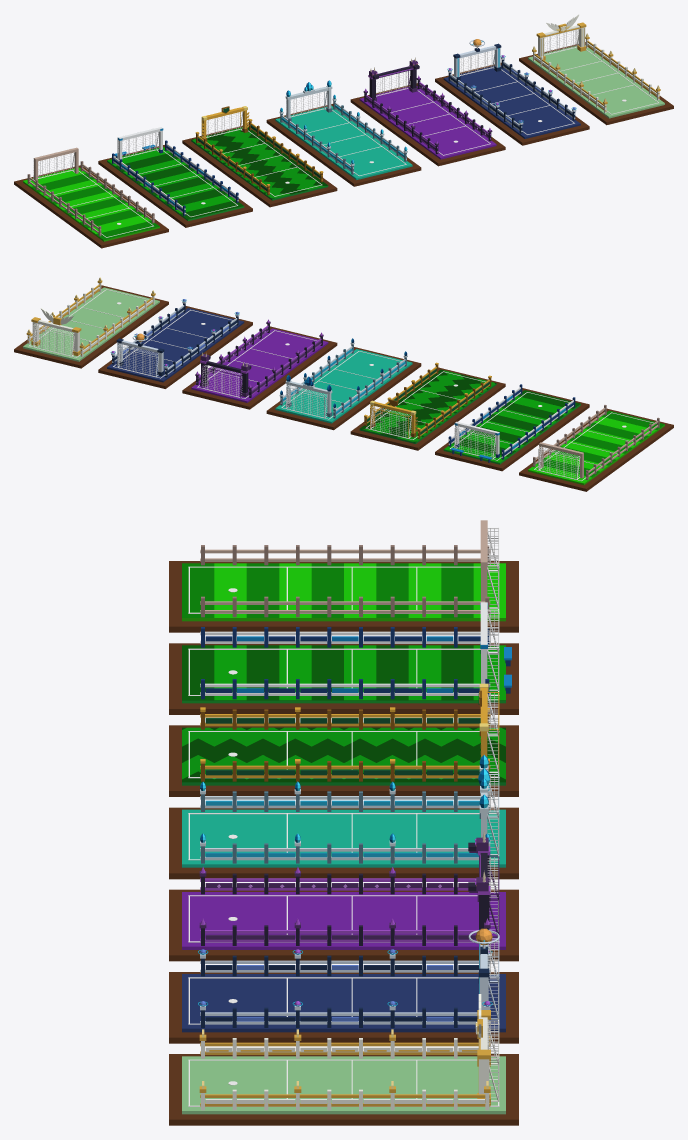
Rendered from training-fields-no-textures.fbx.
3 renders of one model, top to bottom at view 1: azimuth 30°, elevation 25°; view 2: azimuth 150°, elevation 25°; view 3: azimuth 270°, elevation 25°, orthographic. The views are drawn at different scales.
Parts seen in each view (by area): view 1: BF_Grass_Stripes.001, CF_Grass_Stripes.001, RF_Diamond_Turf.001, DF_Diamond_Turf.001, SF_Diamond_Turf.001, MF_Diamond_Turf.001, GF_Diamond_Turf.001, BF_Earth_Base.001, DF_Earth_Base.001, RF_Earth_Base.001, MF_Earth_Base.001, SF_Earth_Base.001 (+32 smaller); view 2: BF_Grass_Stripes.001, CF_Grass_Stripes.001, RF_Diamond_Turf.001, DF_Diamond_Turf.001, SF_Diamond_Turf.001, MF_Diamond_Turf.001, GF_Diamond_Turf.001, BF_Earth_Base.001, RF_Earth_Base.001, CF_Earth_Base.001, DF_Earth_Base.001, GF_Earth_Base.001 (+32 smaller); view 3: BF_Grass_Stripes.001, CF_Grass_Stripes.001, DF_Diamond_Turf.001, SF_Diamond_Turf.001, MF_Diamond_Turf.001, RF_Diamond_Turf.001, GF_Diamond_Turf.001, GF_Earth_Base.001, DF_Earth_Base.001, BF_Earth_Base.001, RF_Earth_Base.001, MF_Earth_Base.001 (+30 smaller).
Part boxes in pixels (left/top/right/bottom): BF_Grass_Stripes.001: left=23, top=167, right=159, bottom=239; CF_Grass_Stripes.001: left=107, top=147, right=243, bottom=219; RF_Diamond_Turf.001: left=191, top=127, right=327, bottom=198; DF_Diamond_Turf.001: left=275, top=105, right=411, bottom=178; SF_Diamond_Turf.001: left=444, top=65, right=580, bottom=137; MF_Diamond_Turf.001: left=360, top=86, right=496, bottom=157; GF_Diamond_Turf.001: left=528, top=45, right=664, bottom=116; BF_Earth_Base.001: left=14, top=165, right=168, bottom=248; DF_Earth_Base.001: left=266, top=104, right=421, bottom=186; RF_Earth_Base.001: left=182, top=124, right=337, bottom=207; MF_Earth_Base.001: left=350, top=83, right=505, bottom=166; SF_Earth_Base.001: left=435, top=62, right=589, bottom=145; BF_Grass_Stripes.001: left=528, top=410, right=664, bottom=483; CF_Grass_Stripes.001: left=444, top=390, right=580, bottom=462; RF_Diamond_Turf.001: left=360, top=369, right=496, bottom=442; DF_Diamond_Turf.001: left=276, top=349, right=411, bottom=421; SF_Diamond_Turf.001: left=107, top=308, right=243, bottom=380; MF_Diamond_Turf.001: left=191, top=328, right=327, bottom=401; GF_Diamond_Turf.001: left=23, top=287, right=159, bottom=360; BF_Earth_Base.001: left=519, top=408, right=673, bottom=491; RF_Earth_Base.001: left=350, top=367, right=505, bottom=450; CF_Earth_Base.001: left=435, top=388, right=589, bottom=471; DF_Earth_Base.001: left=266, top=347, right=421, bottom=430; GF_Earth_Base.001: left=14, top=285, right=168, bottom=368; BF_Grass_Stripes.001: left=182, top=563, right=505, bottom=617; CF_Grass_Stripes.001: left=182, top=645, right=505, bottom=700; DF_Diamond_Turf.001: left=182, top=809, right=505, bottom=864; SF_Diamond_Turf.001: left=182, top=974, right=505, bottom=1028; MF_Diamond_Turf.001: left=182, top=892, right=505, bottom=946; RF_Diamond_Turf.001: left=182, top=727, right=505, bottom=782; GF_Diamond_Turf.001: left=182, top=1056, right=505, bottom=1110; GF_Earth_Base.001: left=169, top=1054, right=518, bottom=1125; DF_Earth_Base.001: left=169, top=807, right=518, bottom=879; BF_Earth_Base.001: left=169, top=561, right=518, bottom=632; RF_Earth_Base.001: left=169, top=725, right=518, bottom=796; MF_Earth_Base.001: left=169, top=889, right=518, bottom=961.
Size of the model in its own units: 81.6 by 5.64 by 21.6.
